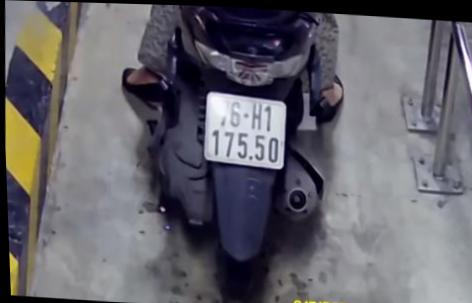LP: (200, 87, 289, 170)
